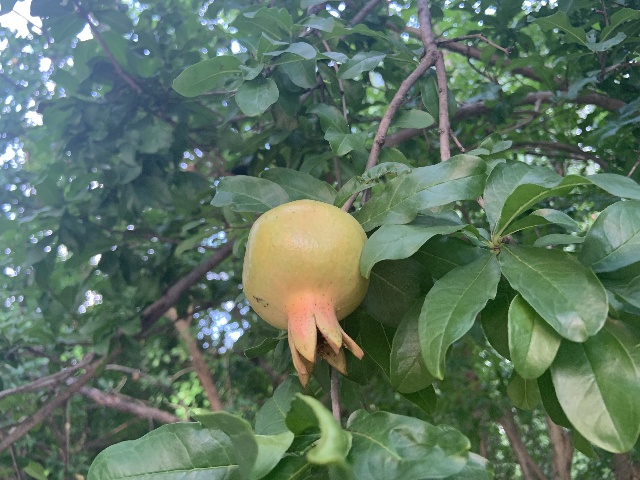mid-growth: (242, 198, 370, 386)
